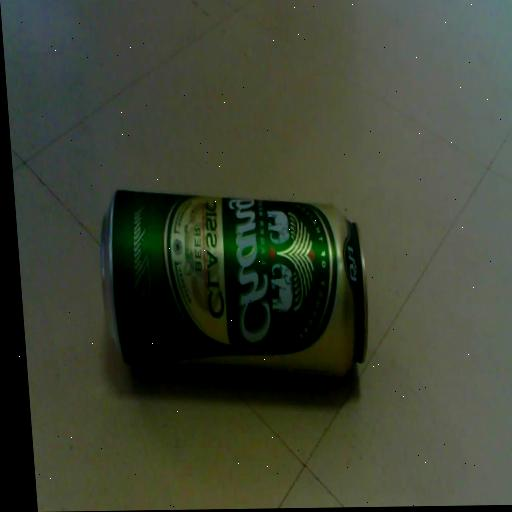canned: (82, 178, 390, 394)
